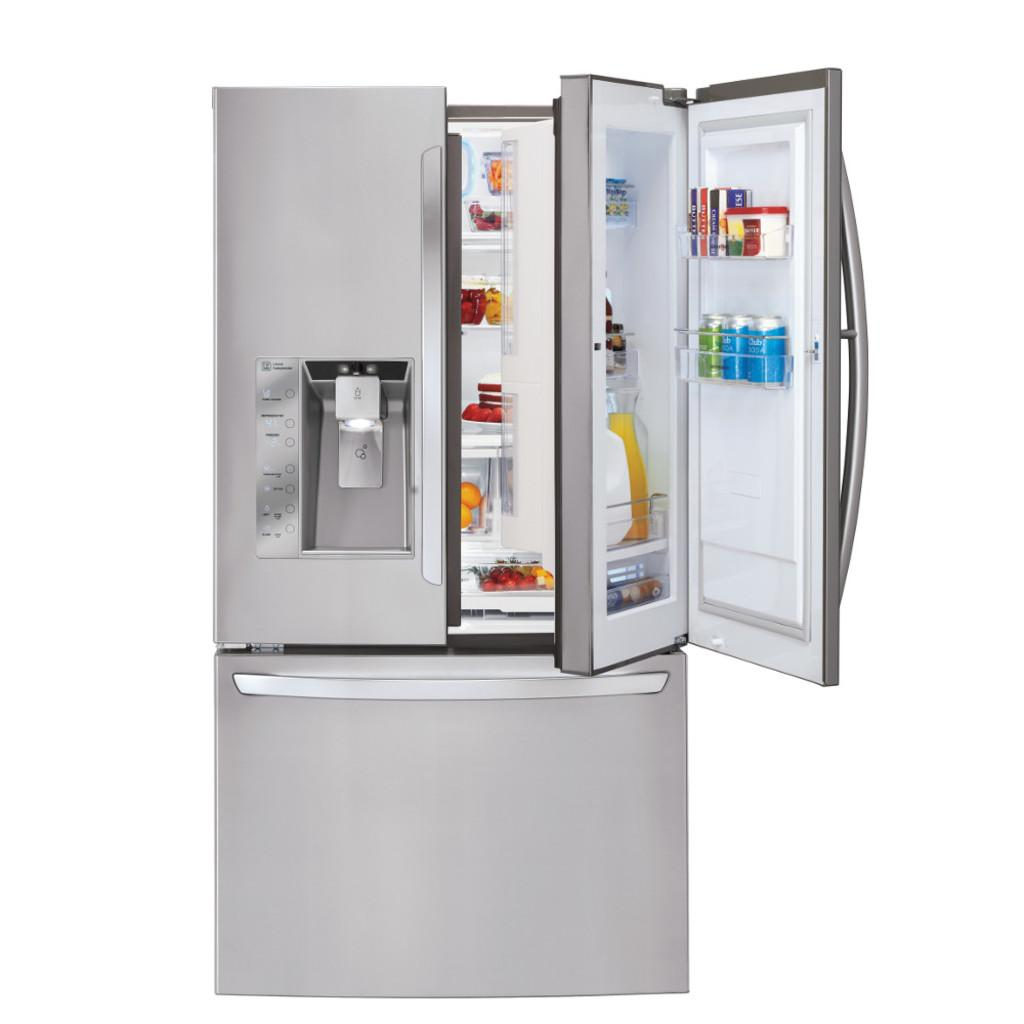handle: (226, 666, 670, 708), (834, 164, 870, 618), (415, 144, 447, 592)
